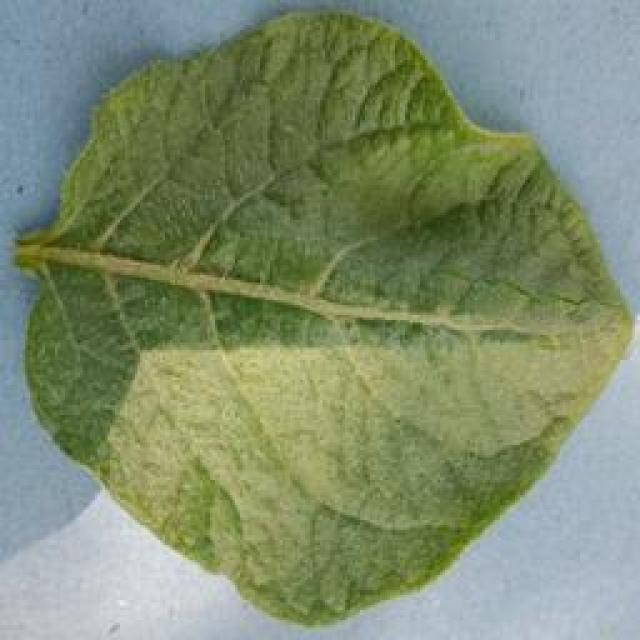Potato_Healthy: (12, 10, 624, 628)
